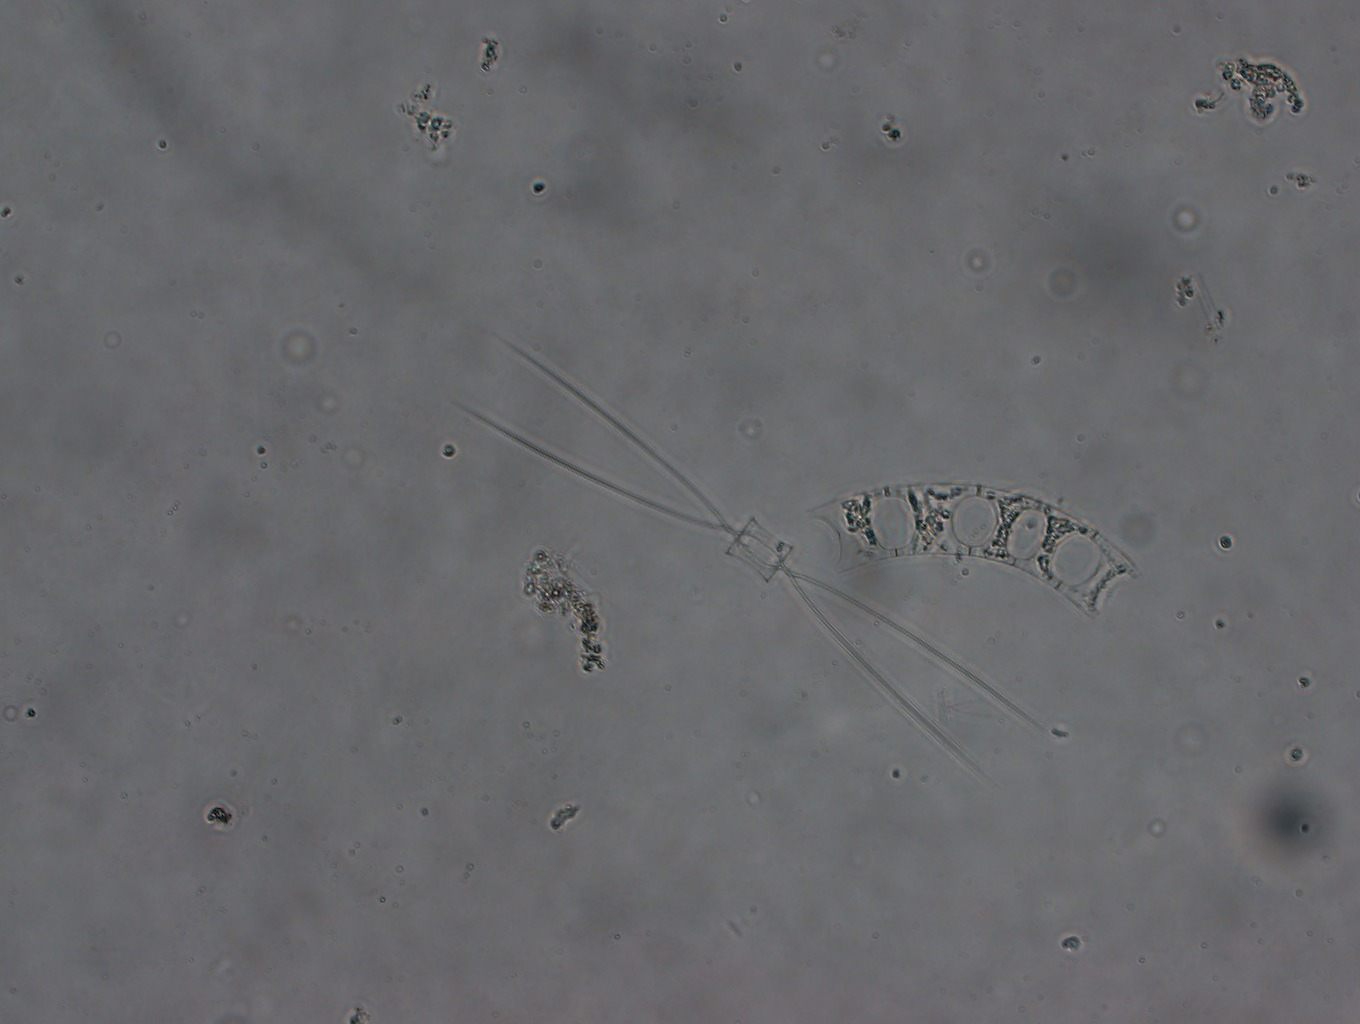chaetoceros: (447, 330, 1037, 792)
eucampia: (813, 482, 1135, 620)
